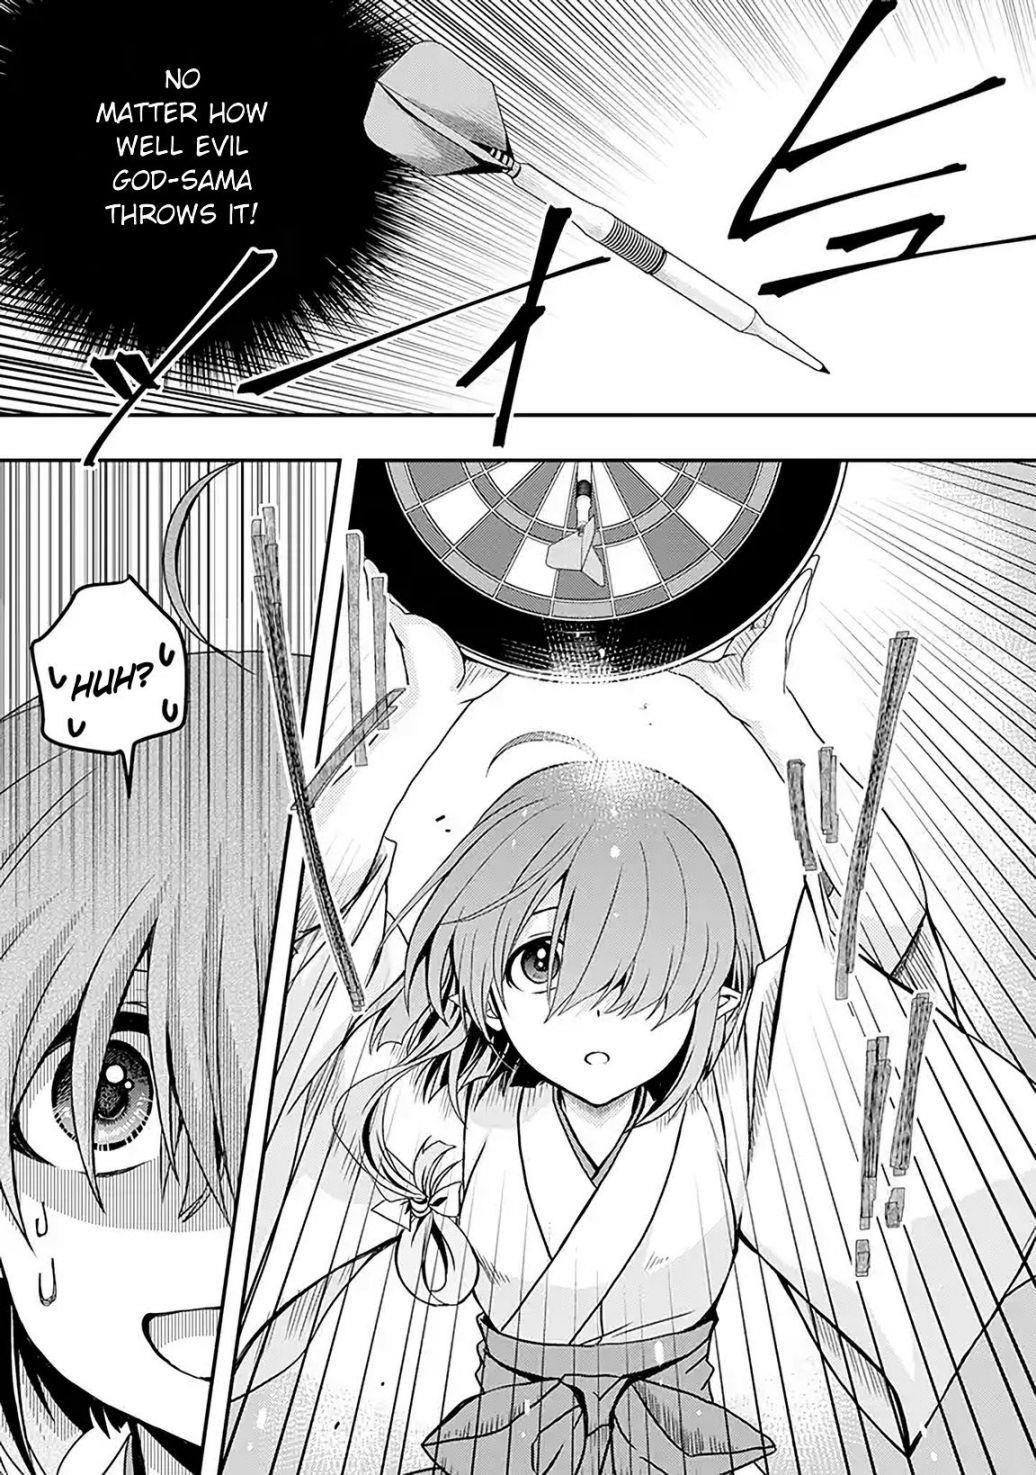Bubble: (0, 0, 394, 361), (30, 576, 195, 758)
